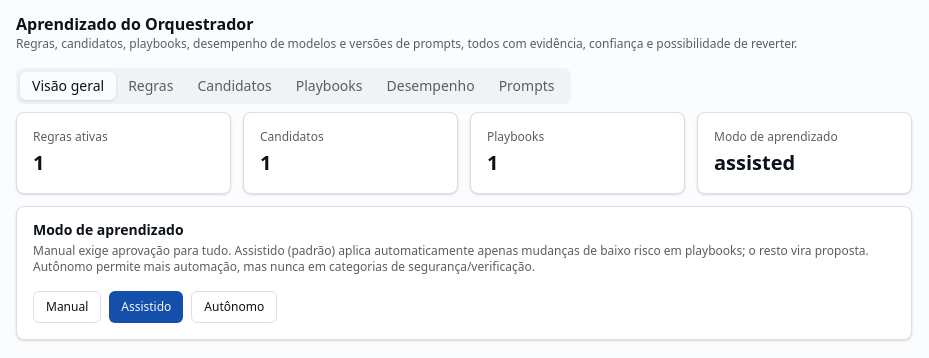
Test: LearningPage › shows context optimizer suggestions in the performance tab
The image size is (929, 358).
What coordinates should you click on to do the following:
click the tab "Desempenho"
I would click on:
 (431, 86)
Its box is x1=374 y1=72 x2=487 y2=100.
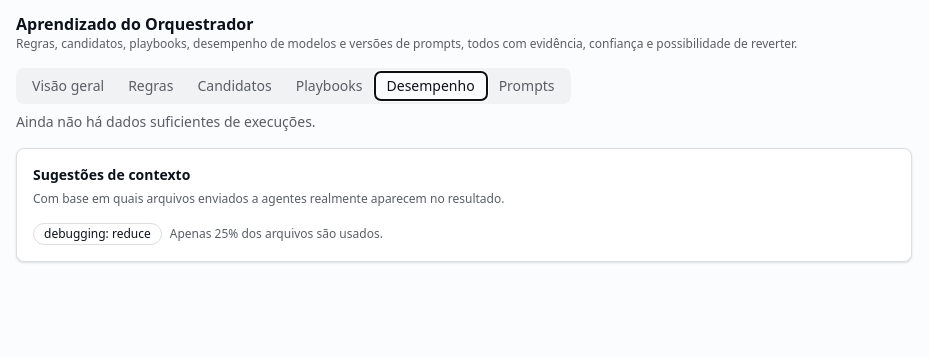
Expected: the text "Apenas 25% dos arquivos são usados." is shown, x1=170 y1=225 x2=383 y2=242
